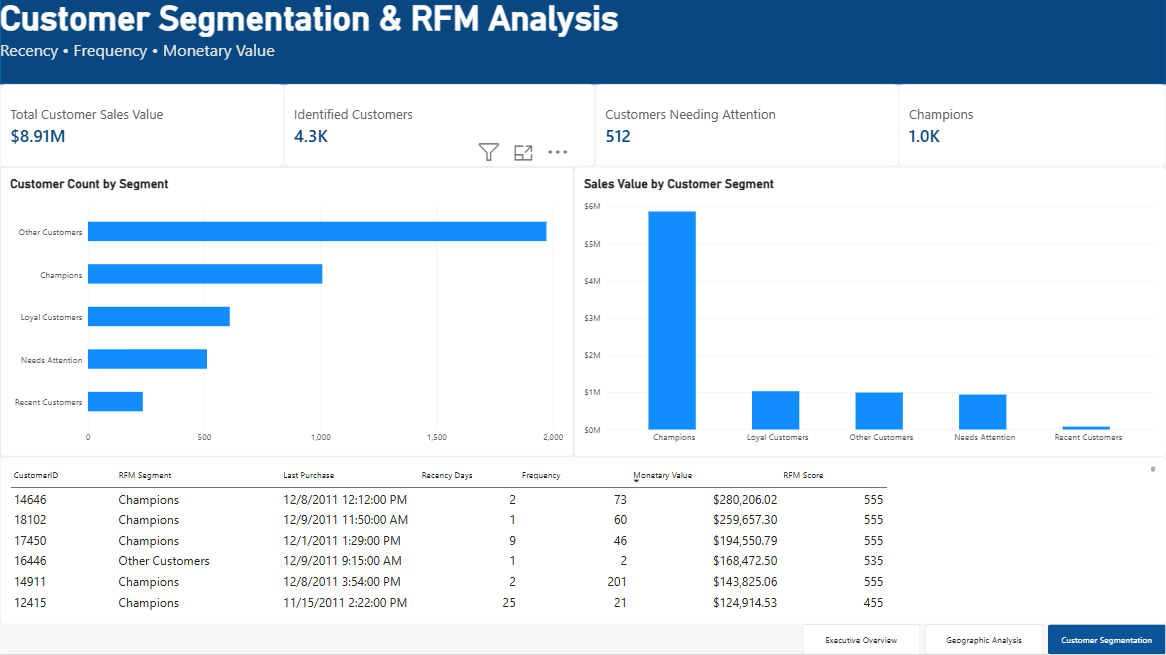

Layout of this report page (visuals, bound fields, positions):
{"tool":"powerbi","page":{"name":"Customer Segmentation","canvas":[1920,1080],"ordinal":2},"visuals":[{"type":"shape","box":[0,0,1920.4,142],"z":0},{"type":"textbox","title":"Customer Segmentation & RFM Analysis","box":[0,0,1920.4,137.9],"z":1000},{"type":"pageNavigator","box":[1321.4,1031.2,600,50],"z":1001},{"type":"cardVisual","fields":{"Data":["Customer RFM.Customers Identified"]},"box":[467.2,142,512.5,135.8],"z":1002},{"type":"cardVisual","fields":{"Data":["Customer RFM.Total Customer Sales Value"]},"box":[0,142,467.2,135.8],"z":1003},{"type":"cardVisual","fields":{"Data":["Customer RFM.Champions"]},"box":[1479.9,142,440.5,135.8],"z":1004},{"type":"cardVisual","fields":{"Data":["Customer RFM.Customers Needing Attention"]},"box":[979.8,142,500.2,135.8],"z":1005},{"type":"clusteredBarChart","title":"Customer Count by Segment","fields":{"Category":["Customer RFM.RFM Segment"],"Y":["CountNonNull(Customer RFM.CustomerID)"]},"box":[0,277.9,944.8,477.5],"z":1006},{"type":"clusteredColumnChart","title":"Sales Value by Customer Segment","fields":{"Category":["Customer RFM.RFM Segment"],"Y":["Sum(Customer RFM.Monetary Value)"]},"box":[944.8,277.9,975.6,477.5],"z":1007},{"type":"tableEx","fields":{"Values":["Customer RFM.CustomerID","Customer RFM.RFM Segment","Customer RFM.Last Purchase","Customer RFM.Recency Days","Customer RFM.Frequency","Customer RFM.Monetary Value","Customer RFM.RFM Score"]},"box":[0,755.4,1920.4,275.8],"z":1008}]}

Visuals, with their boxes in screenshot pixels (x1, y1, x2, y2), scaled from the page's 1920x1080 canvas onto the 1166x655 screenshot:
shape: x1=0 y1=0 x2=1165 y2=86
"Customer Segmentation & RFM Analysis" textbox: x1=0 y1=0 x2=1165 y2=84
pageNavigator: x1=802 y1=625 x2=1165 y2=654
cardVisual - Customer RFM.Customers Identified: x1=284 y1=86 x2=595 y2=168
cardVisual - Customer RFM.Total Customer Sales Value: x1=0 y1=86 x2=284 y2=168
cardVisual - Customer RFM.Champions: x1=899 y1=86 x2=1165 y2=168
cardVisual - Customer RFM.Customers Needing Attention: x1=595 y1=86 x2=899 y2=168
"Customer Count by Segment" clusteredBarChart: x1=0 y1=169 x2=574 y2=458
"Sales Value by Customer Segment" clusteredColumnChart: x1=574 y1=169 x2=1165 y2=458
tableEx - Customer RFM.CustomerID x Customer RFM.RFM Segment: x1=0 y1=458 x2=1165 y2=625
